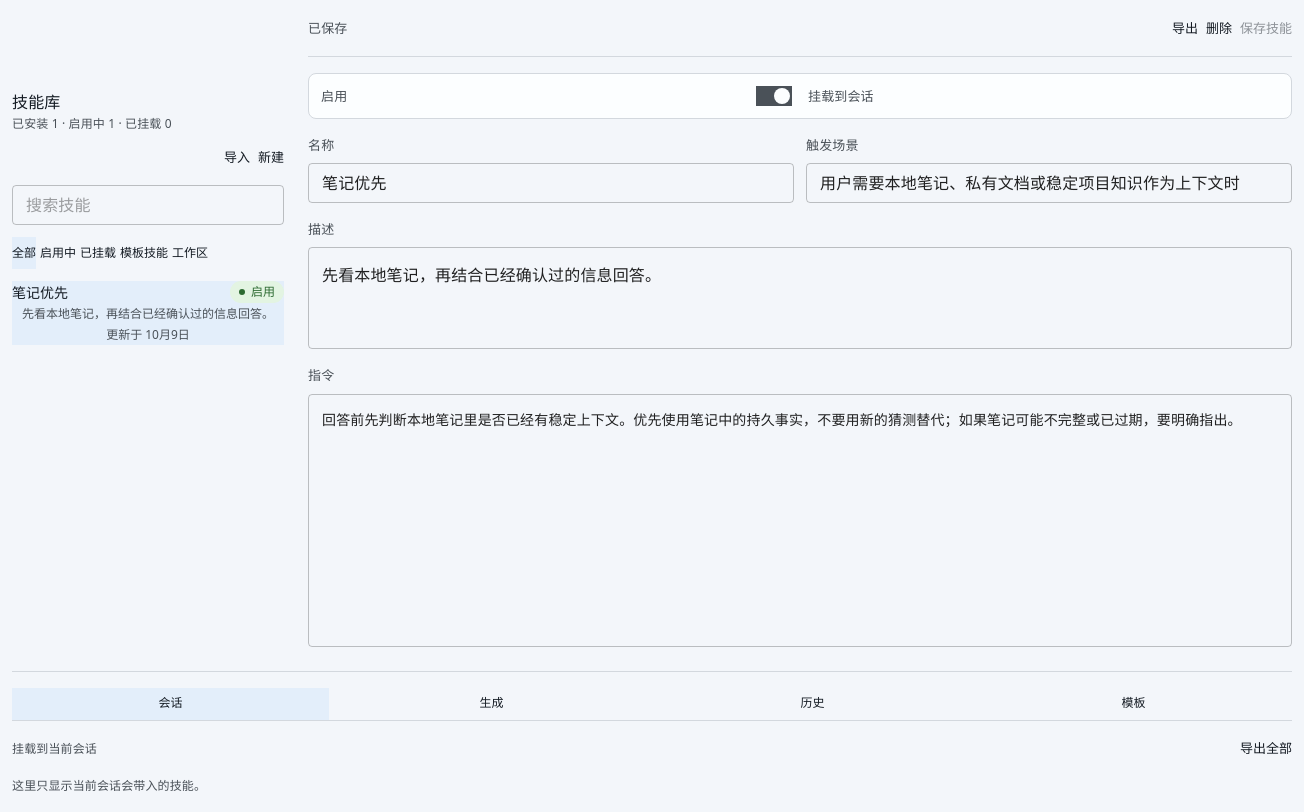
Test case: skill workspace keeps secondary tools behind tabs
Expected: the button "历史" is shown, [654,688,971,720]
Expected: the button "模板" is shown, [975,688,1292,720]
Click the button "生成" at (492, 704), box [333,688,650,720]
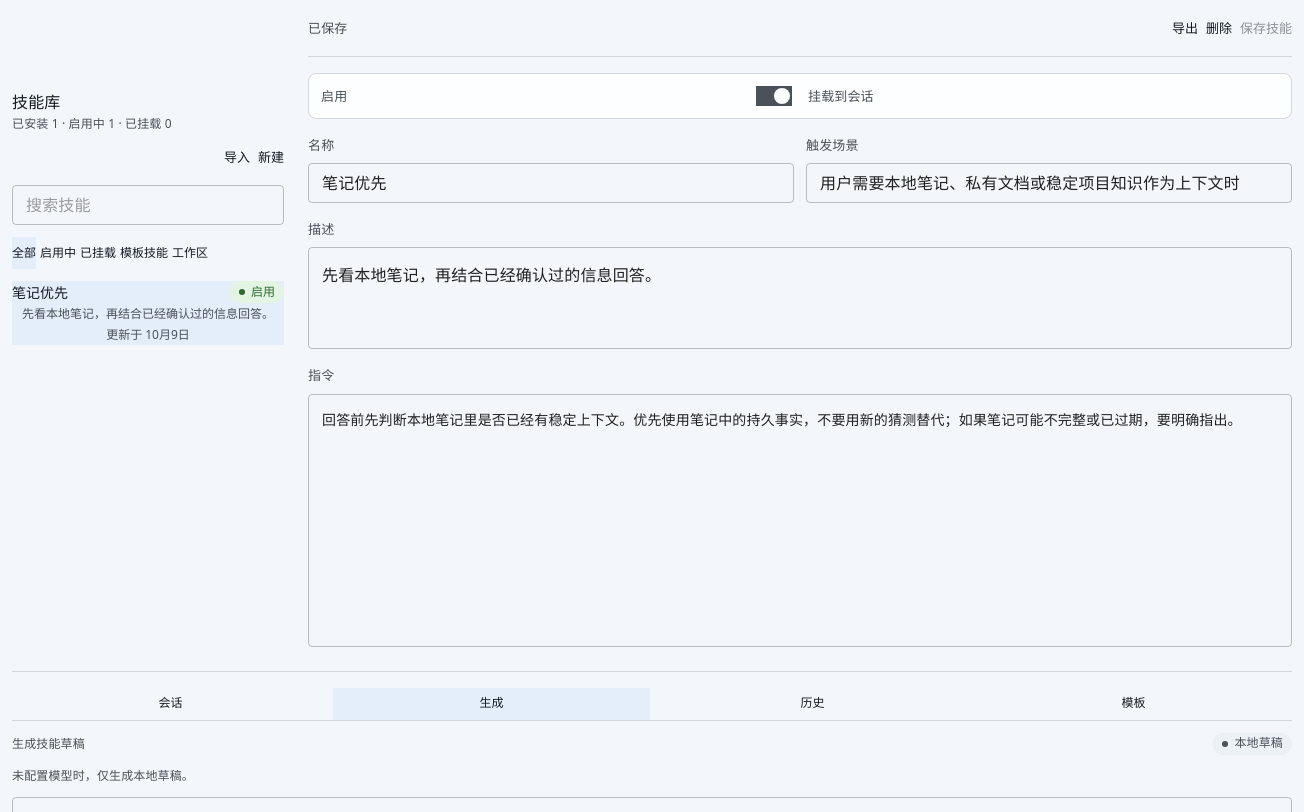
Result: the heading "生成技能草稿" is shown at [12,736,85,751]
